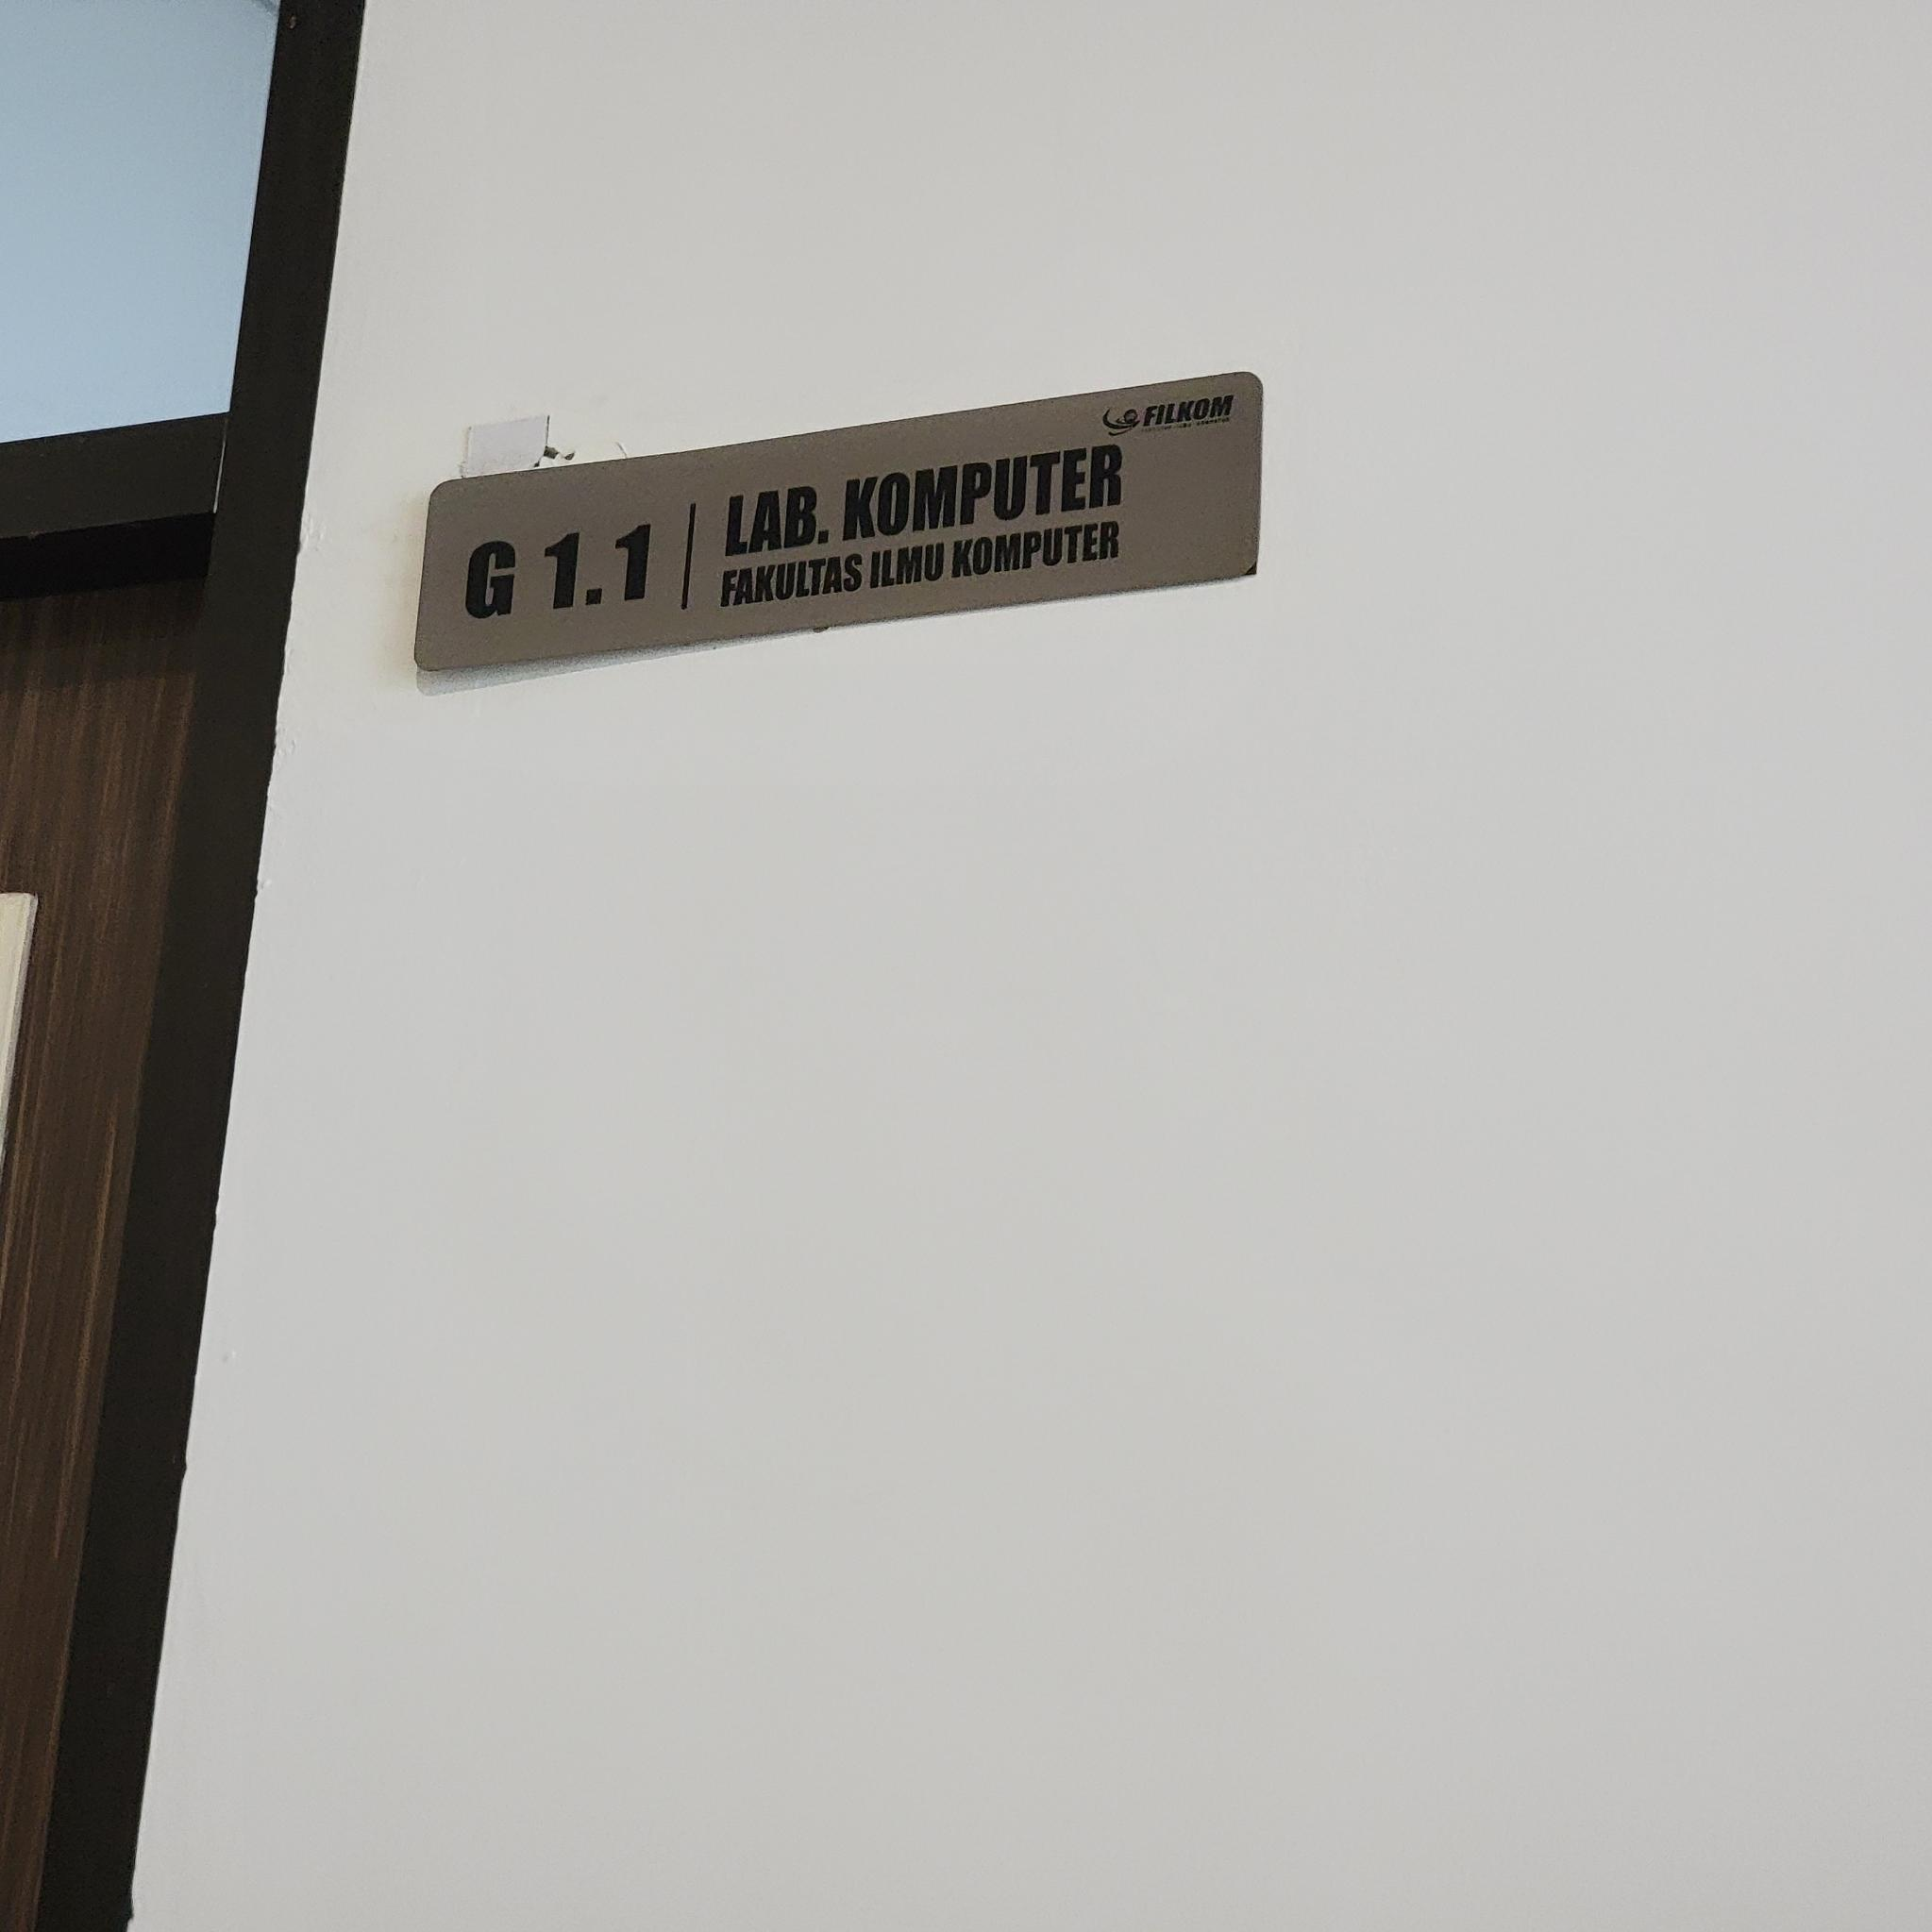plate: (416, 370, 1267, 676)
